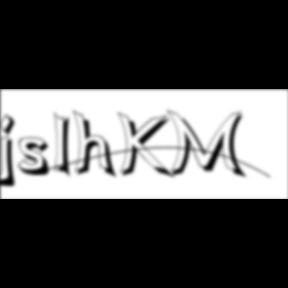I: (54, 110, 78, 182)
K: (117, 110, 176, 182)
M: (166, 108, 250, 181)
h: (72, 108, 119, 182)
j: (1, 113, 23, 191)
s: (19, 137, 58, 179)
